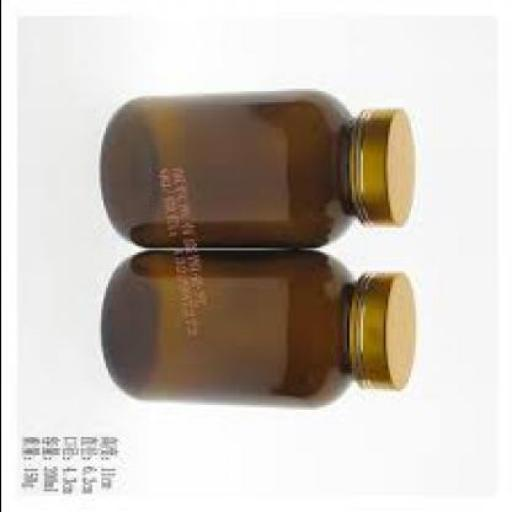glass: (100, 89, 350, 246), (98, 246, 355, 398)
metal: (353, 107, 419, 228), (352, 268, 416, 386)
